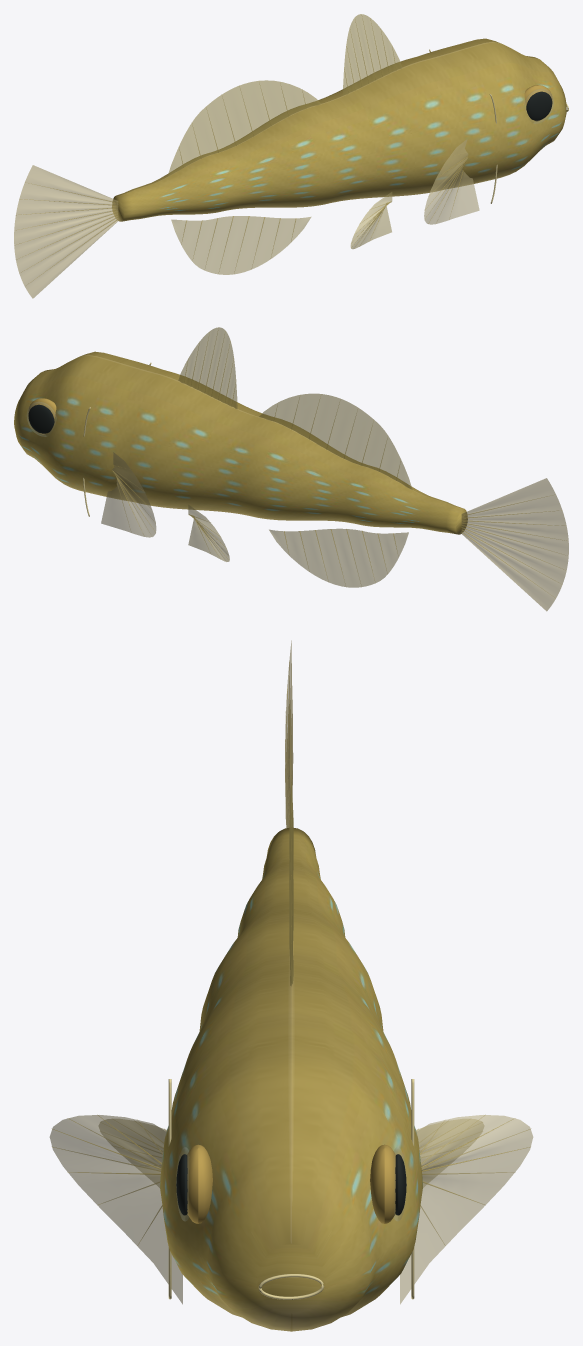
Rendered from goby-mobile.glb.
3 views of the same model, one above another, from view 1: azimuth 30°, elevation 25°; view 2: azimuth 150°, elevation 25°; view 3: azimuth 270°, elevation 25° (orthographic). The views are drawn at different scales.
Visible parts, largest first — view 1: skin, dorsal, tail, anal, pectoral-left, dorsal-ray, pelvic-left, eye-pupil--1; view 2: skin, dorsal, tail, anal, pectoral-left, dorsal-ray, pelvic-left, eye-pupil--1; view 3: skin, pectoral-left, pelvic-left, eye-iris--1, dorsal-ray, operculum, eye-pupil--1, tail, dorsal.
Part boxes in pixels (<box>): skin: <box>112,38,566,221</box>; dorsal: <box>167,14,402,176</box>; tail: <box>14,165,118,298</box>; anal: <box>171,216,310,274</box>; pectoral-left: <box>424,139,479,224</box>; dorsal-ray: <box>16,16,467,282</box>; pelvic-left: <box>350,192,392,248</box>; eye-pupil--1: <box>526,91,552,120</box>; skin: <box>14,351,467,534</box>; dorsal: <box>178,327,412,489</box>; tail: <box>461,478,568,611</box>; anal: <box>269,528,408,587</box>; pectoral-left: <box>101,452,156,537</box>; dorsal-ray: <box>112,332,551,585</box>; pelvic-left: <box>188,505,229,561</box>; eye-pupil--1: <box>28,404,54,433</box>; skin: <box>160,827,422,1331</box>; pectoral-left: <box>49,1115,533,1304</box>; pelvic-left: <box>99,1119,483,1187</box>; eye-iris--1: <box>187,1144,395,1223</box>; dorsal-ray: <box>52,662,530,1244</box>; operculum: <box>168,1079,414,1299</box>; eye-pupil--1: <box>176,1154,406,1215</box>; tail: <box>285,640,293,828</box>; dorsal: <box>289,775,293,985</box>.
Bounding box in the file's own units: 0.5912 × 0.2366 × 0.2261.
Materials: 11 (1 with a texture image).
